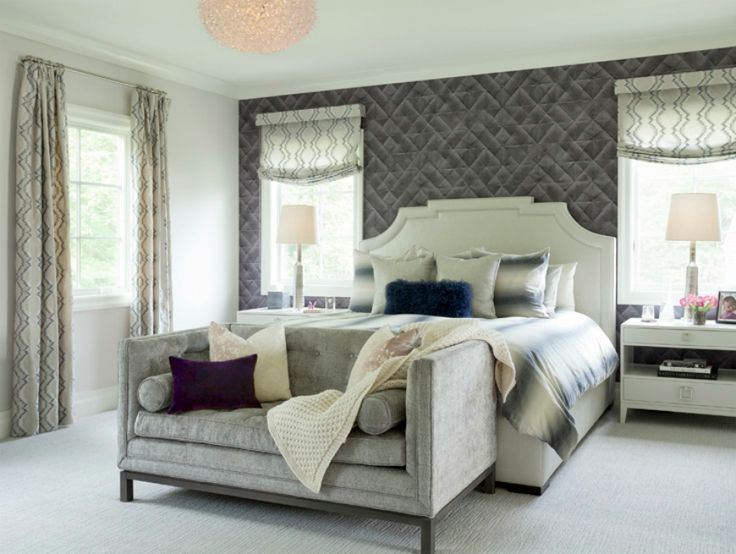chairs: (92, 314, 510, 551)
